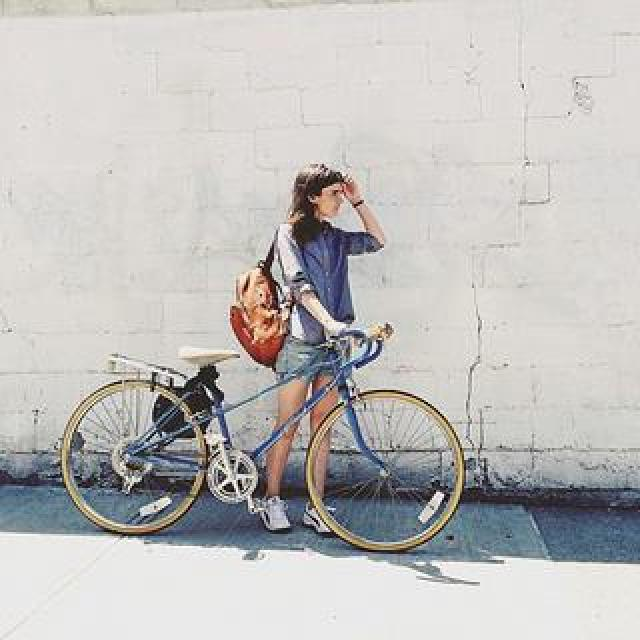MC-Bike: (234, 166, 396, 534)
Person: (48, 317, 474, 549)
